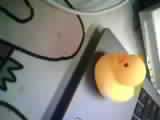duck: (86, 45, 149, 111)
